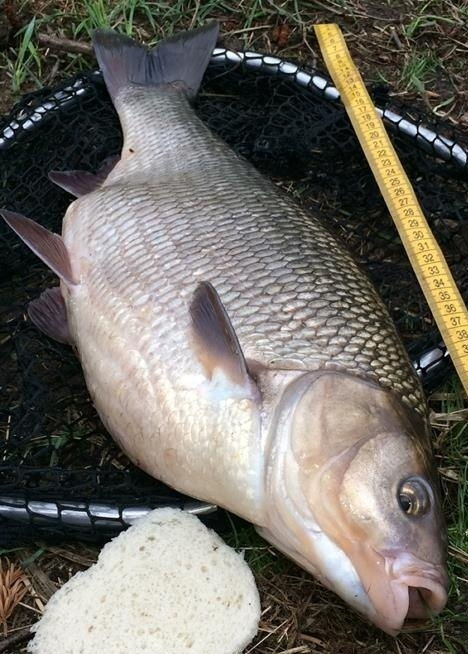Leuciscus idus: (1, 20, 448, 634)
